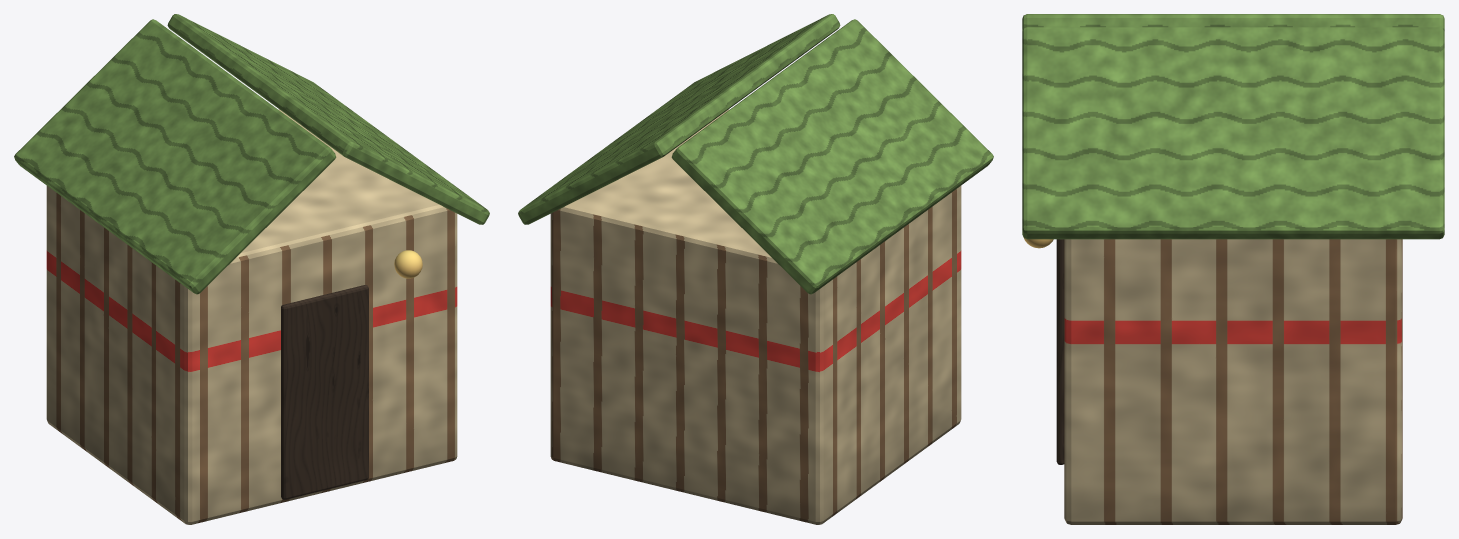
File: stilt_hut.glb
3 views of the same model, side by side, from view 1: azimuth 30°, elevation 25°; view 2: azimuth 150°, elevation 25°; view 3: azimuth 270°, elevation 25° (orthographic). The views are drawn at different scales.
Visible parts, largest first — view 1: Hut; view 2: Hut; view 3: Hut.
Boxes of the visible parts, x1,y1,x2,y2 form: Hut: (14,14,489,524); Hut: (518,14,993,524); Hut: (1022,14,1444,524).
Size of the model in its own units: 2.42 by 2.79 by 2.5.
1 material, 1 textured.
